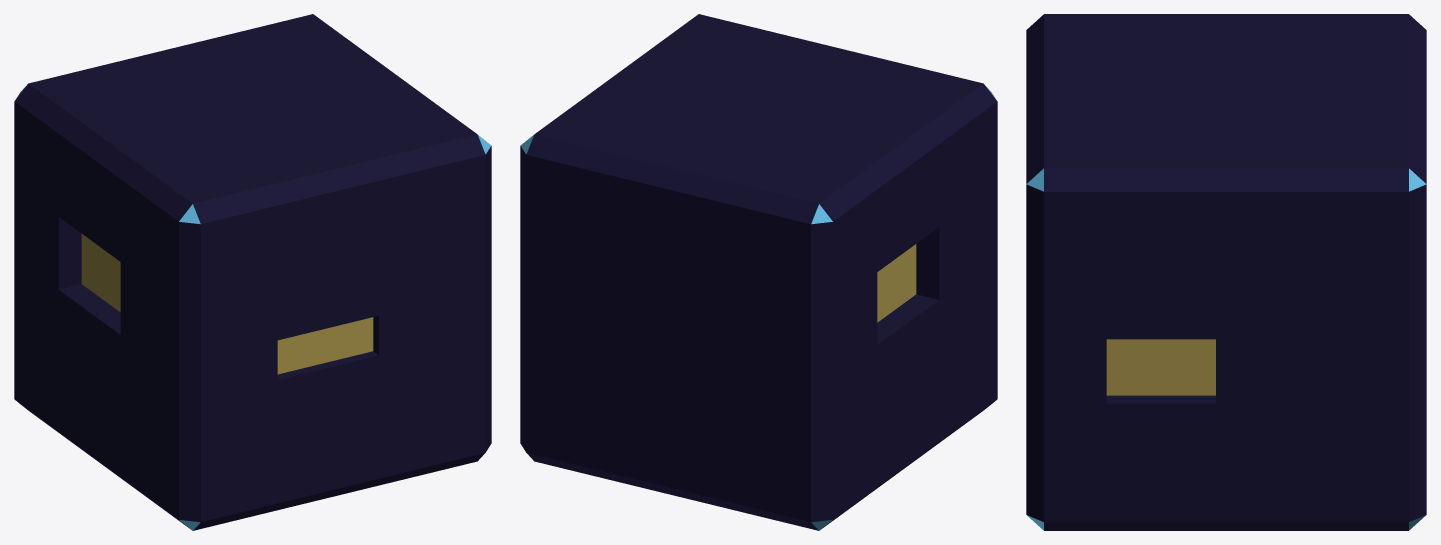
The model's file is SmallHouse2.fbx.
3 views of the same model, side by side, from view 1: azimuth 30°, elevation 25°; view 2: azimuth 150°, elevation 25°; view 3: azimuth 270°, elevation 25° (orthographic). The views are drawn at different scales.
Visible parts, largest first — view 1: SmallHouse2; view 2: SmallHouse2; view 3: SmallHouse2.
Part boxes in pixels (box(x1,y1,x2,y2)): SmallHouse2: box(14, 14, 491, 530); SmallHouse2: box(520, 14, 997, 530); SmallHouse2: box(1026, 14, 1426, 530).
Bounding box in the file's own units: 139 × 139 × 139.
